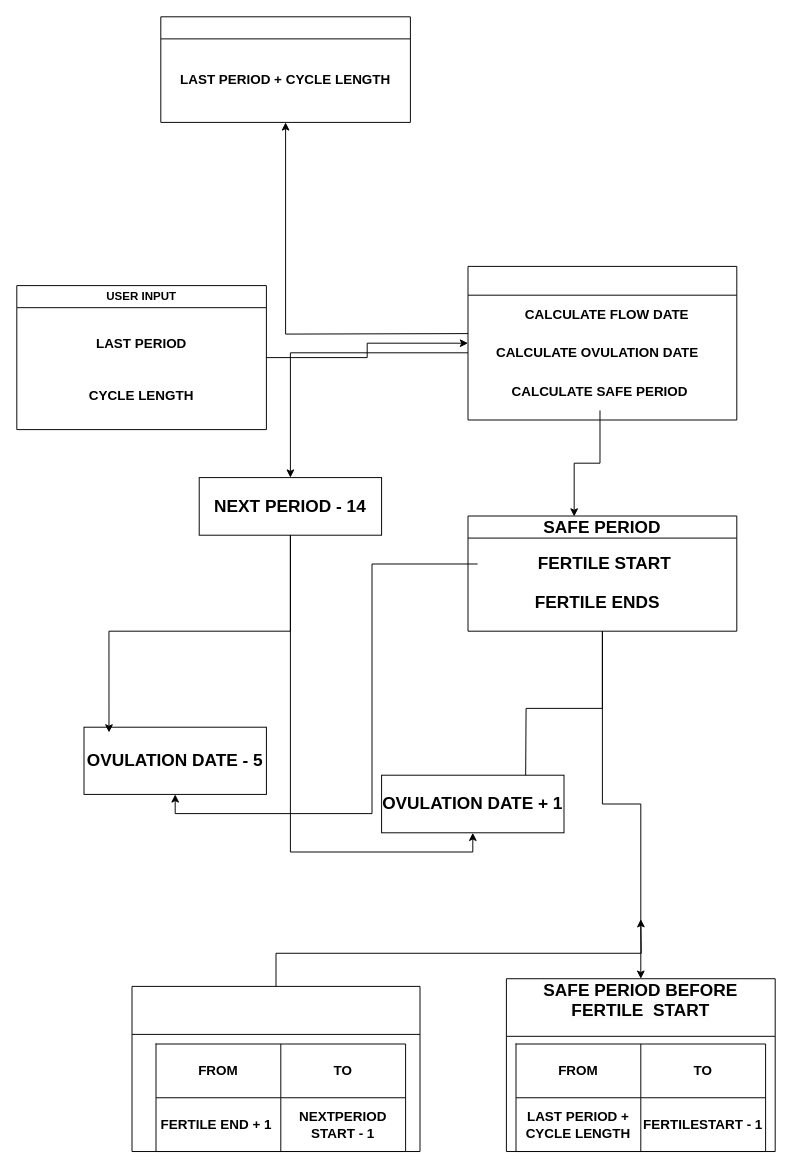
The diagram is 792 pixels wide and 1168 high, and some of its shapes have lost their labels. The shapes that lost their labels are listed below. From the top down, each one's box as (x1, y1, x2, y2) in pixels, then its label:
(160, 16, 410, 122): NEXT MESTURAL PERIOD
(467, 265, 737, 420): MESTURAL CYCLE CALCULATOR
(131, 985, 420, 1152): SAFE PERIOD AFTER FERTILE END
